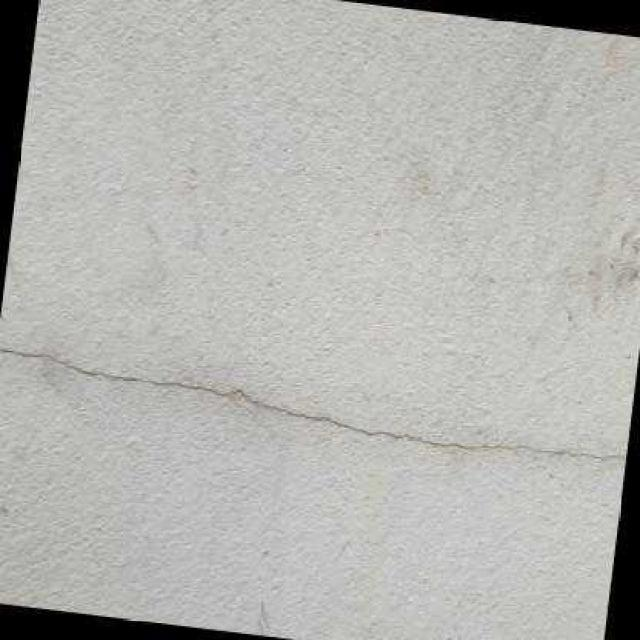D00: (0, 348, 626, 459)
